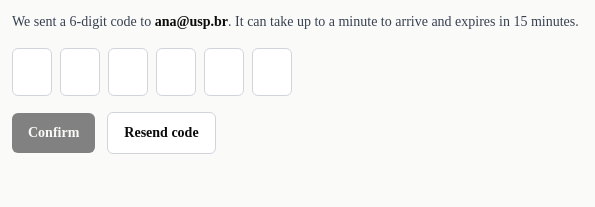
Test: VerificationCodeForm › resending says so and starts the countdown again
Click the button "Resend code". click: (161, 133)
box: [107,112,216,154]
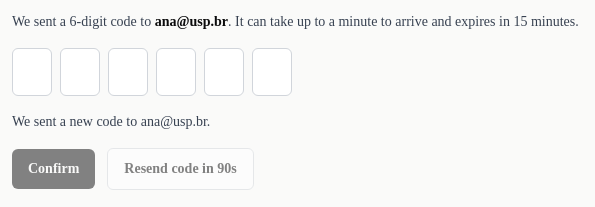
Result: the message reads "We sent a new code to ana@usp.br." at [12,114,210,129]
Result: the button "Resend code in 90s" is shown at [107,148,254,190]
